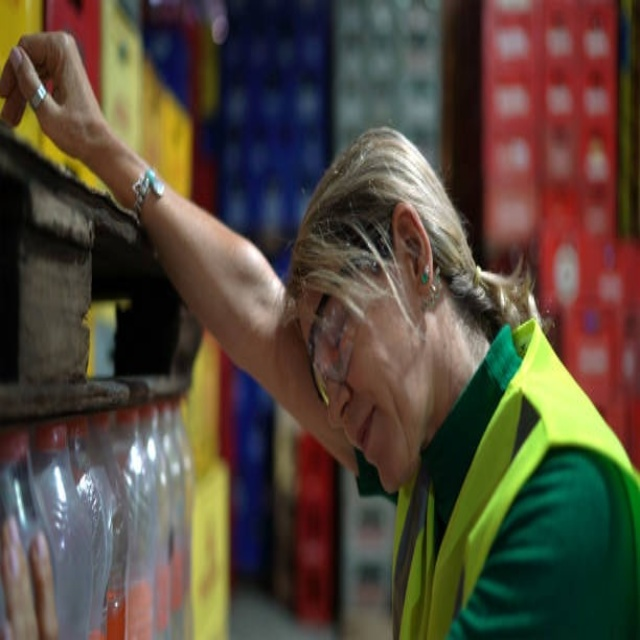Gafas: (306, 287, 360, 413)
Sin_guantes: (1, 27, 120, 173), (1, 515, 59, 640)
Sin_mascara: (328, 400, 396, 489)
